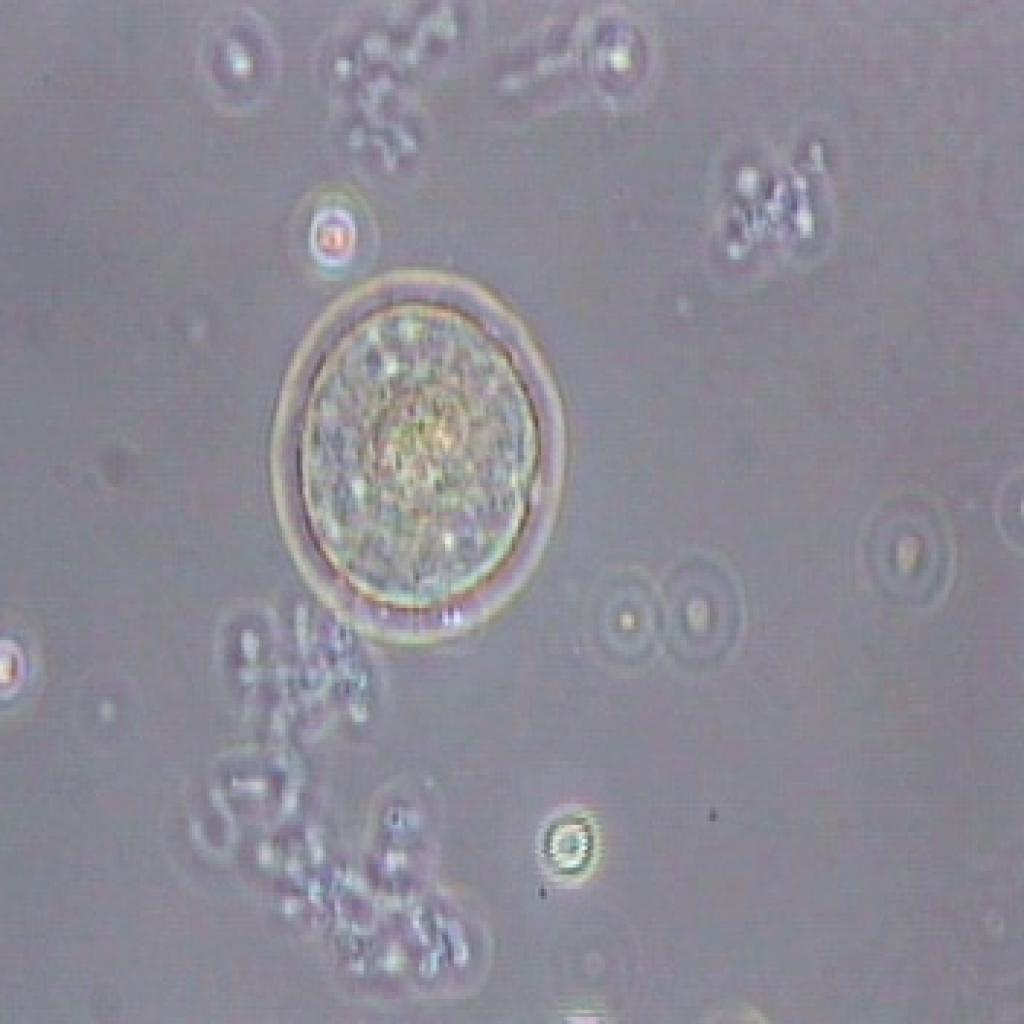Arcella: (256, 251, 588, 663)
